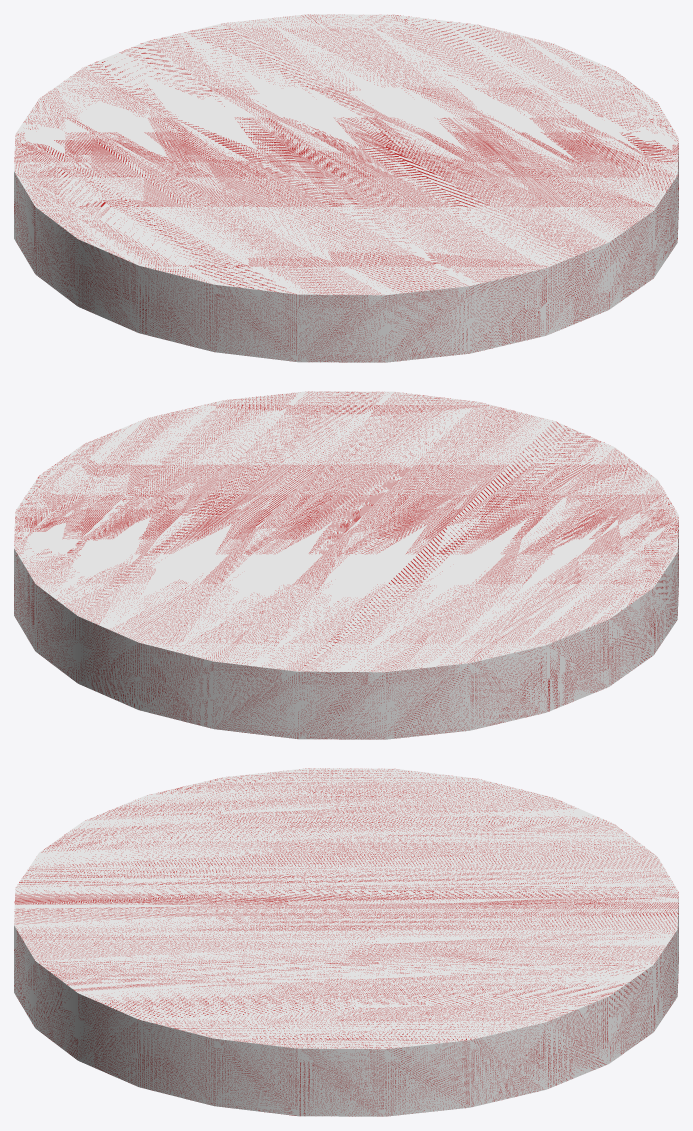
Rendered from original-2.obj.
3 renders of one model, top to bottom at view 1: azimuth 30°, elevation 25°; view 2: azimuth 150°, elevation 25°; view 3: azimuth 270°, elevation 25°, orthographic.
Visible parts, largest first — view 1: mesh2/mesh2-geometry#mesh2-geometry; view 2: mesh2/mesh2-geometry#mesh2-geometry; view 3: mesh2/mesh2-geometry#mesh2-geometry.
Boxes of the visible parts, box(x1,y1,x2,y2) form: mesh2/mesh2-geometry#mesh2-geometry: box(14, 14, 678, 362); mesh2/mesh2-geometry#mesh2-geometry: box(14, 391, 678, 739); mesh2/mesh2-geometry#mesh2-geometry: box(14, 768, 678, 1116).
Size of the model in its own units: 1.11 by 0.1242 by 1.11.
